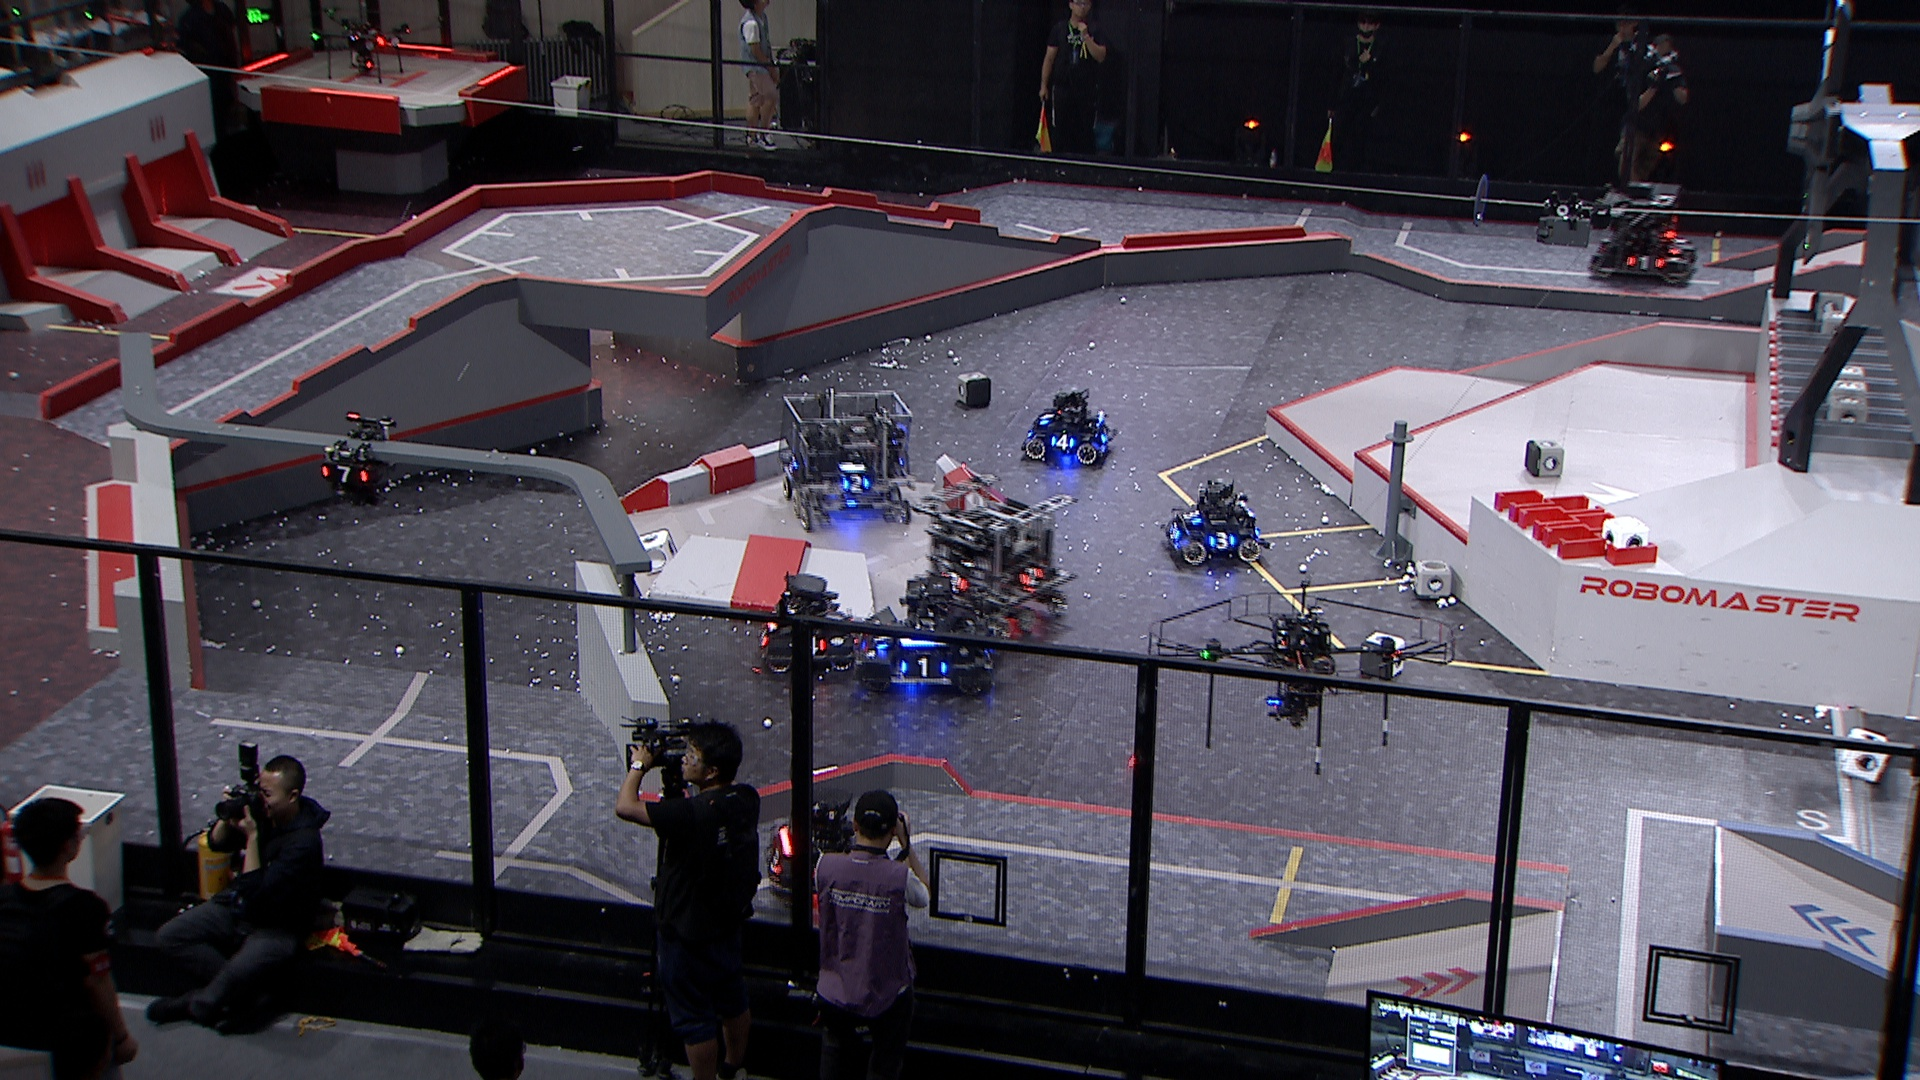armor: (318, 462, 371, 485), (899, 655, 949, 679), (1627, 253, 1665, 272), (1017, 564, 1044, 589), (839, 475, 870, 496), (942, 568, 967, 593), (1209, 527, 1236, 551), (765, 844, 785, 876), (1048, 433, 1077, 451), (1178, 505, 1204, 524), (872, 632, 891, 654), (1039, 406, 1058, 427), (808, 633, 825, 654), (785, 455, 800, 476), (1168, 518, 1182, 542), (1098, 423, 1112, 447), (757, 626, 770, 647)
car: (910, 469, 1077, 633), (773, 385, 916, 527), (860, 570, 998, 694), (764, 787, 882, 898), (1585, 178, 1702, 285), (752, 575, 864, 674), (1166, 475, 1267, 568), (1021, 382, 1116, 465)
watcher: (315, 413, 400, 506)
